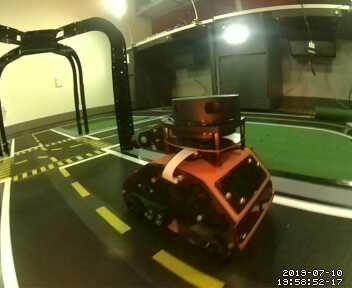pheeno: (119, 93, 275, 261)
